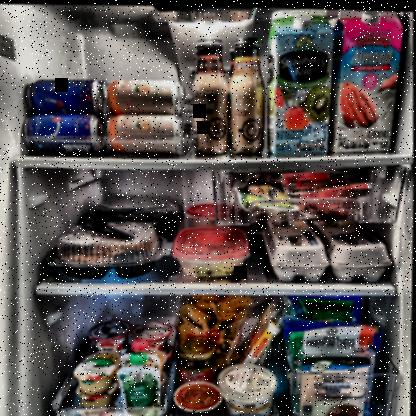eggs: (265, 221, 329, 281), (326, 222, 388, 281)
milk: (333, 9, 399, 151), (268, 10, 330, 151)
